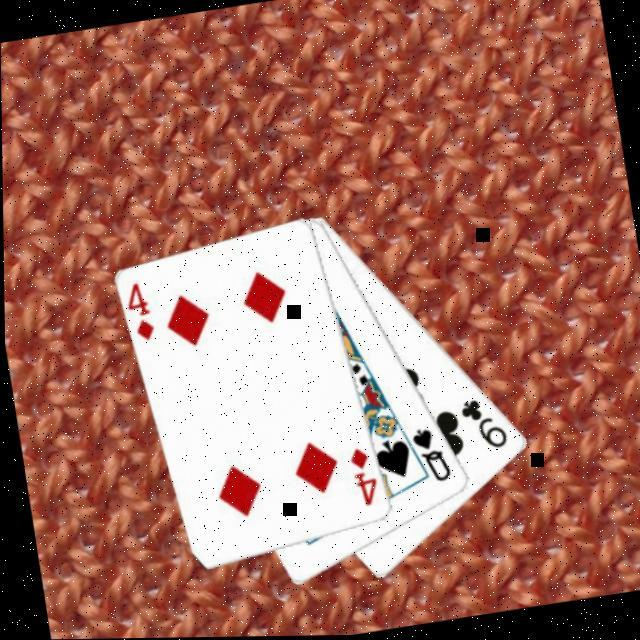4D: (120, 280, 158, 347), (344, 446, 382, 512)
9C: (454, 394, 511, 458)
QS: (406, 423, 453, 491)
